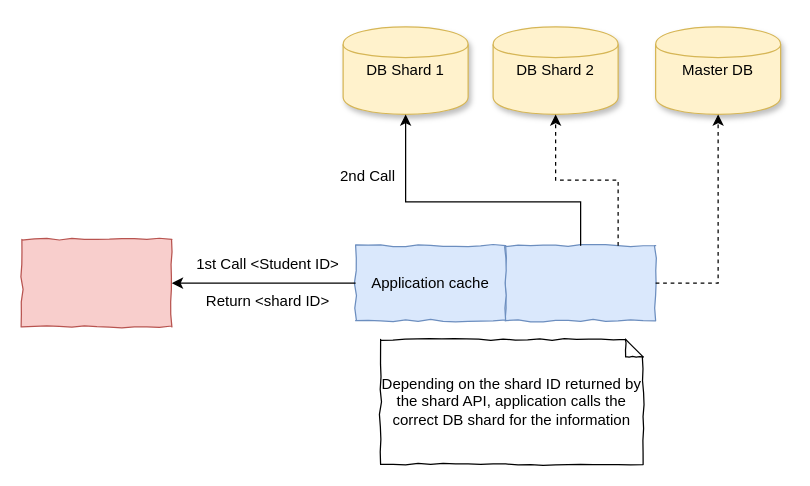
Some shapes in this 810 by 486 pixel diagram are drawn without their labels. Each missing label, with the centre of its shape:
Application: the point at 580,282
Shard API: the point at 96,282
